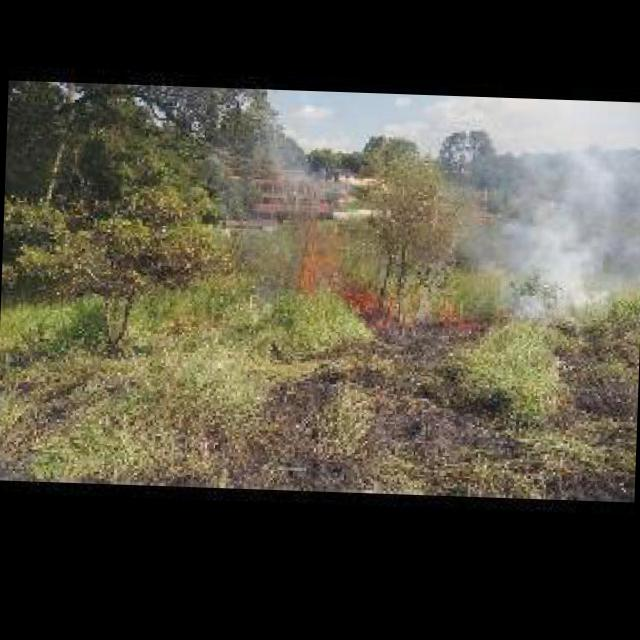fire: (301, 218, 384, 310)
smoke: (493, 150, 636, 333)
